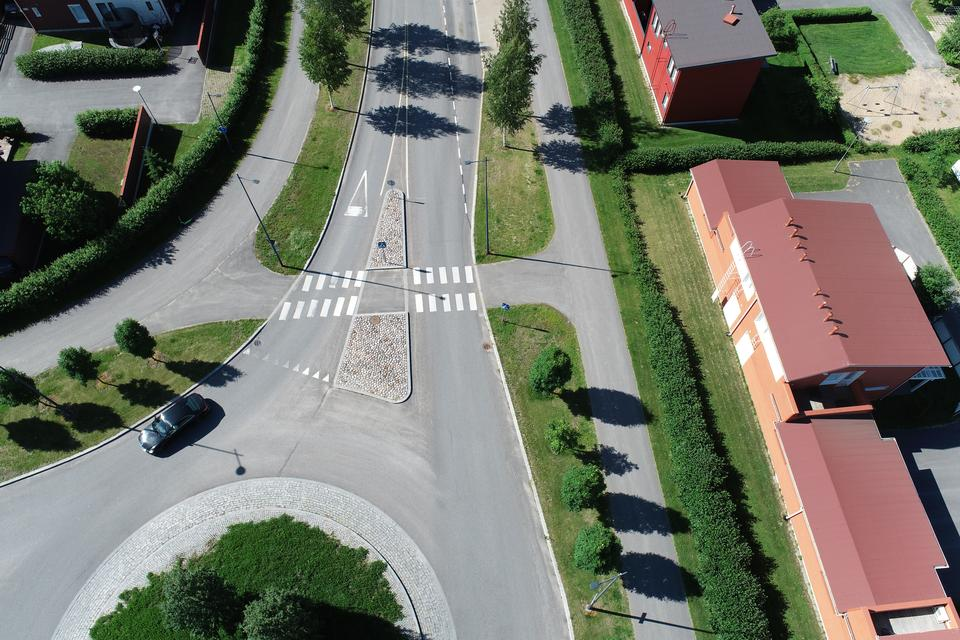intersection: (221, 220, 638, 347)
roundabout: (0, 414, 584, 640)
